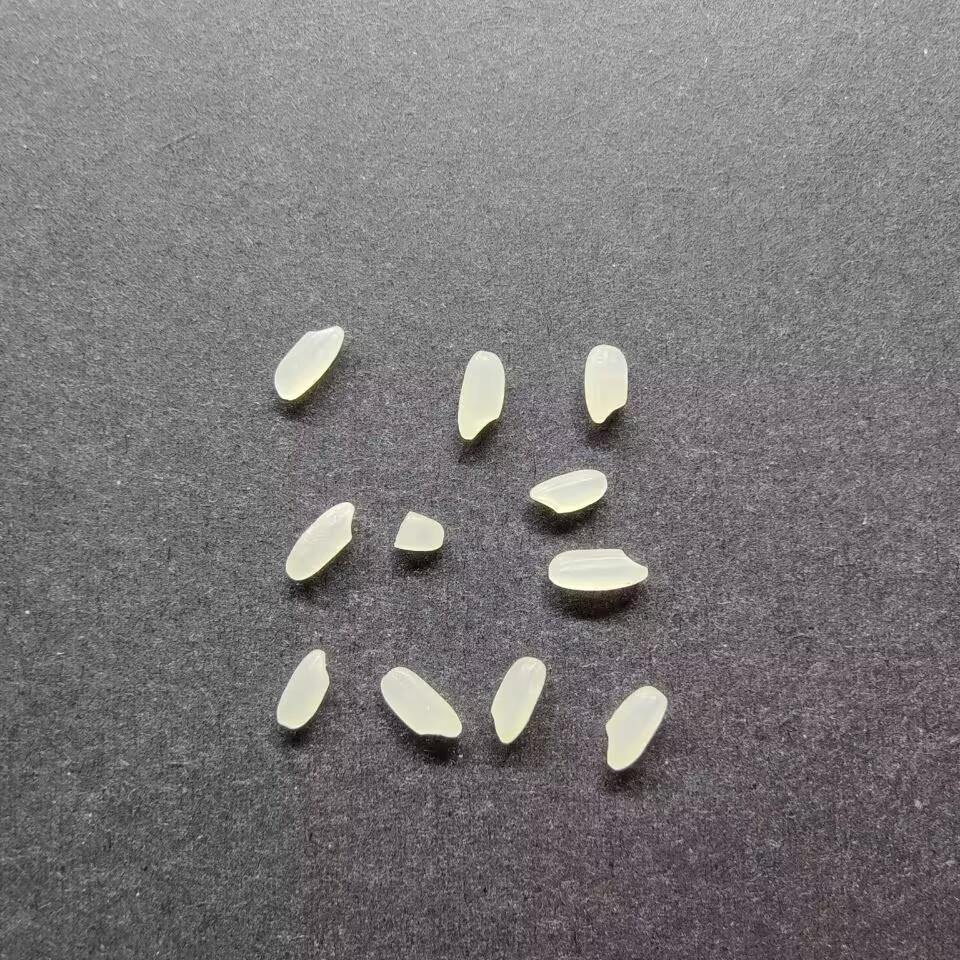broken: (392, 508, 445, 554)
rice: (378, 662, 464, 739), (282, 500, 357, 584), (604, 683, 670, 773), (272, 323, 345, 404), (488, 655, 547, 746), (273, 647, 333, 731), (545, 546, 650, 592), (455, 349, 506, 441), (582, 341, 629, 428), (528, 467, 610, 514)
